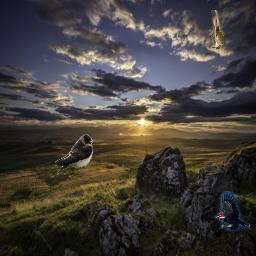Cuckoo: (211, 10, 224, 50)
Swallow: (55, 134, 93, 174)
Woodpecker: (214, 191, 250, 231)
